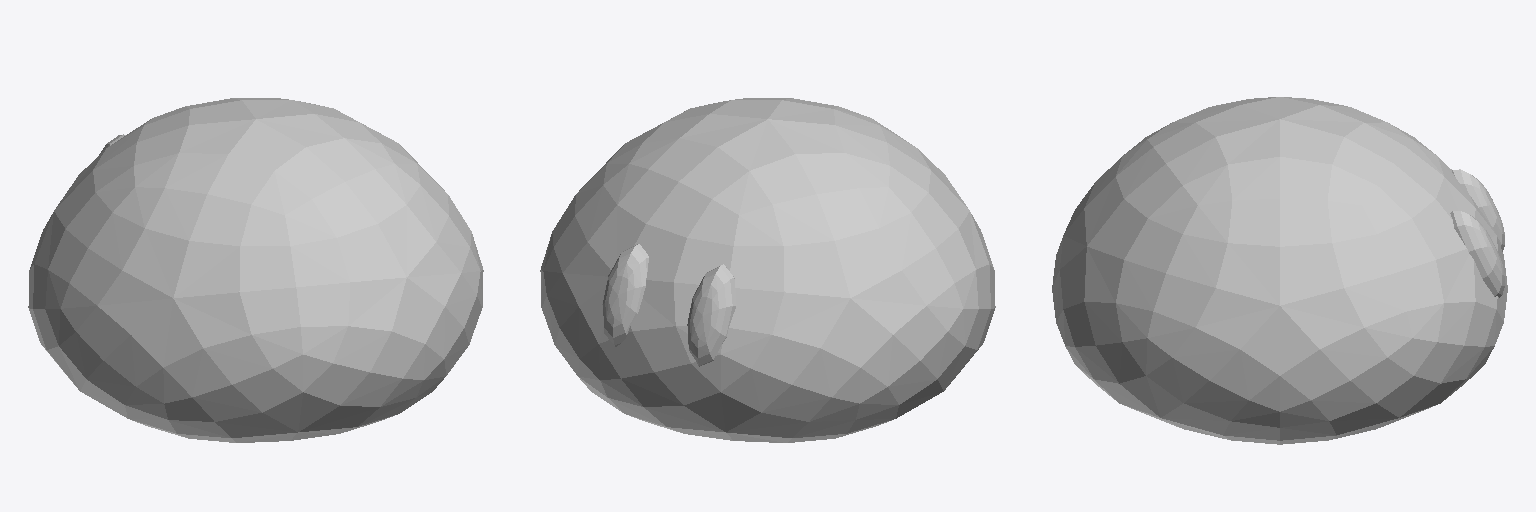
The model's file is slime.obj.
3 renders of one model, left to right at view 1: azimuth 30°, elevation 25°; view 2: azimuth 150°, elevation 25°; view 3: azimuth 270°, elevation 25°, orthographic.
Visible parts, largest first — view 1: Icosphere.001; view 2: Icosphere.001, Sphere; view 3: Icosphere.001, Sphere.
Boxes of the visible parts, x1,y1,x2,y2 form: Icosphere.001: [28, 98, 483, 442]; Icosphere.001: [540, 98, 995, 442]; Sphere: [602, 244, 736, 366]; Icosphere.001: [1052, 97, 1507, 444]; Sphere: [1450, 169, 1504, 297].
Bounding box in the file's own units: 1.49 × 0.9866 × 1.49.